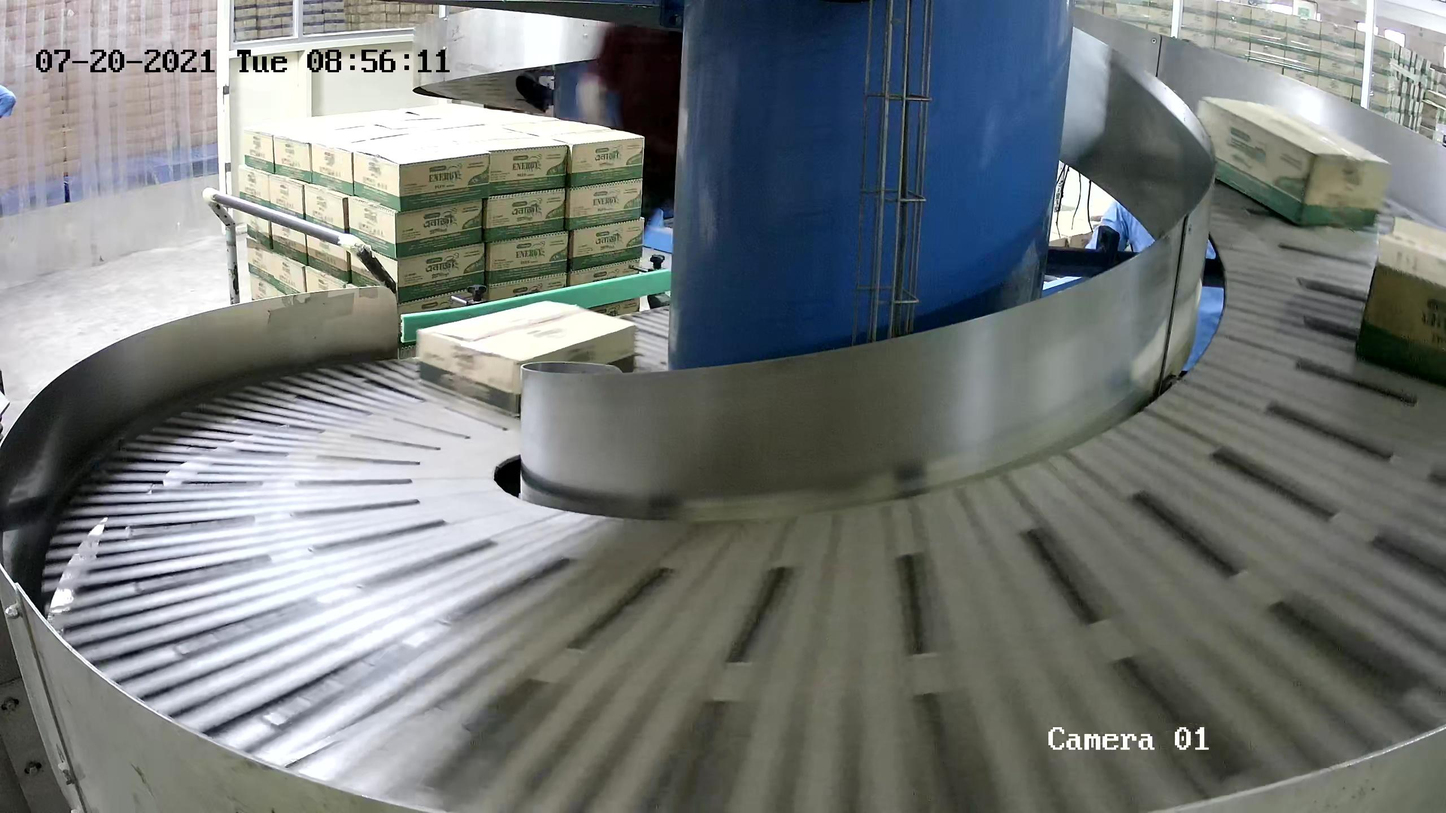Box: (417, 300, 638, 418), (1195, 95, 1391, 226), (1354, 235, 1446, 386)
